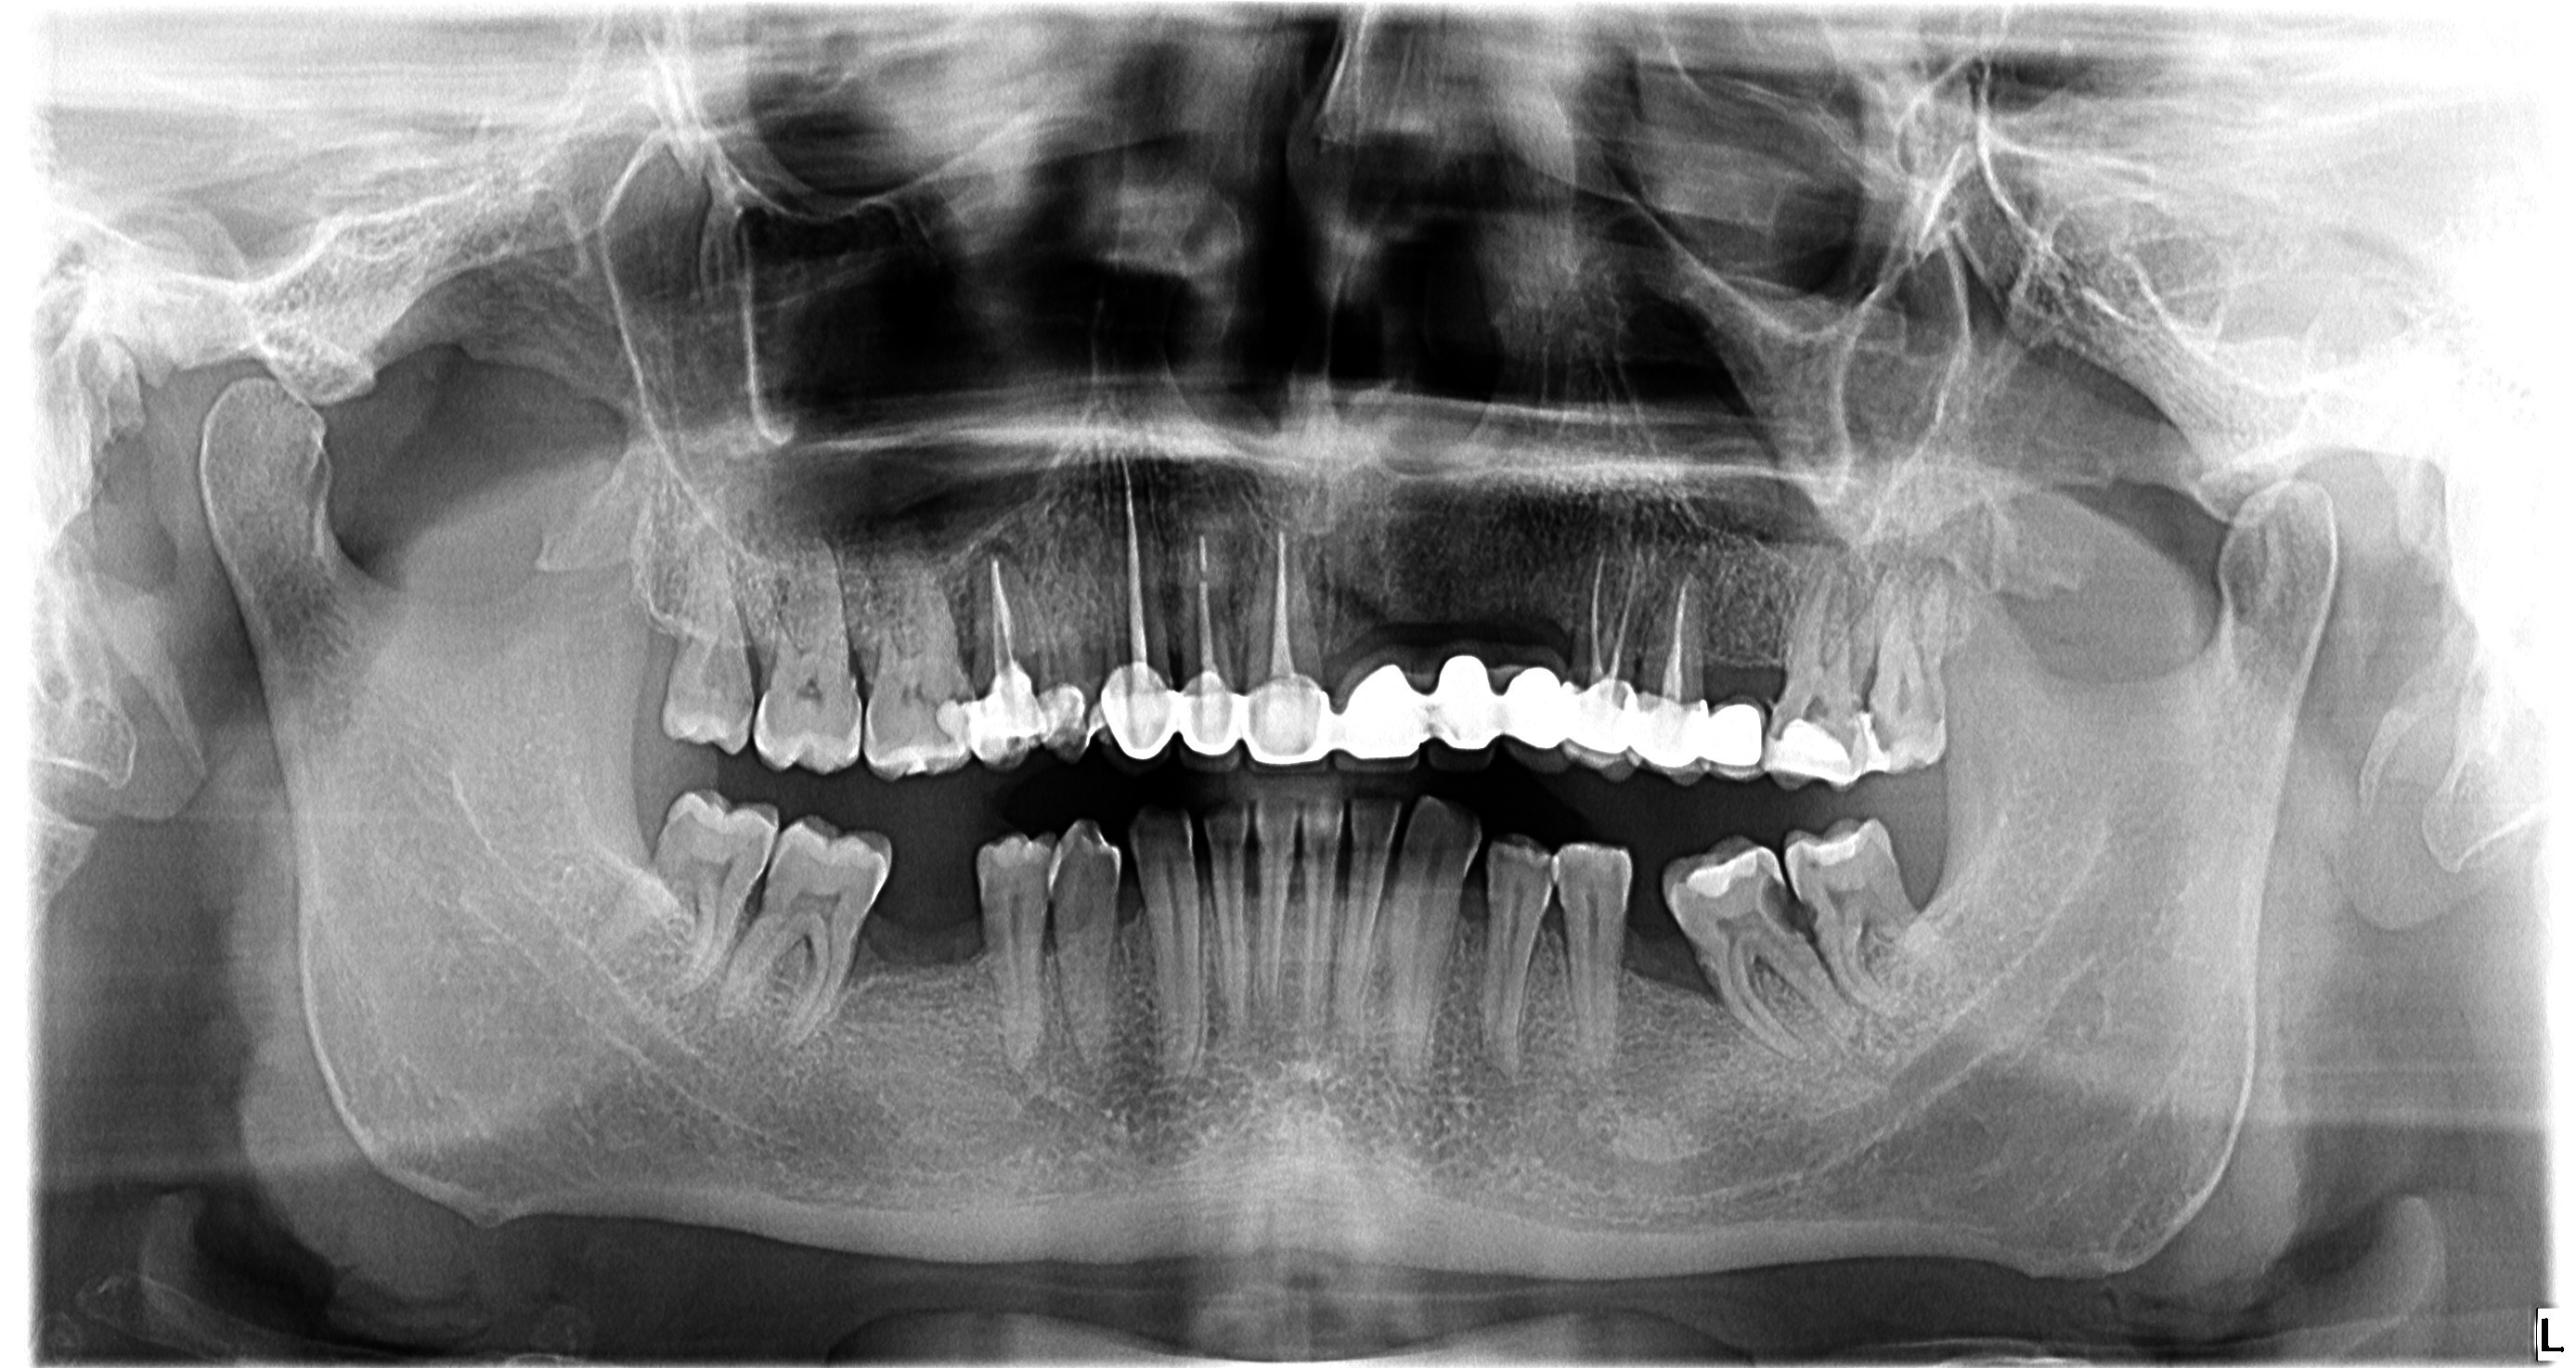API: (446, 233, 1474, 818)
BON: (719, 402, 2464, 1368), (726, 395, 2314, 1358), (688, 395, 2193, 1349), (647, 388, 2067, 1310), (770, 273, 2576, 995), (634, 382, 1995, 1308), (612, 370, 1930, 1296), (586, 378, 1864, 1303), (561, 373, 1791, 1312), (516, 385, 1680, 1339), (475, 382, 1557, 1363), (324, 412, 1324, 1368)
CAR: (854, 394, 2576, 1342), (876, 400, 2576, 1348)
END: (792, 216, 2494, 923), (762, 181, 2404, 869), (605, 174, 1908, 860), (574, 169, 1801, 860), (526, 99, 1693, 772), (458, 211, 1491, 910)
OBT: (794, 390, 2556, 1291), (854, 390, 2576, 1271), (837, 310, 2576, 1104), (896, 313, 2576, 1089), (486, 291, 1590, 1060), (433, 300, 1402, 1073)
PRR: (681, 283, 2447, 1068), (644, 264, 2211, 1020), (394, 267, 1820, 1037)
